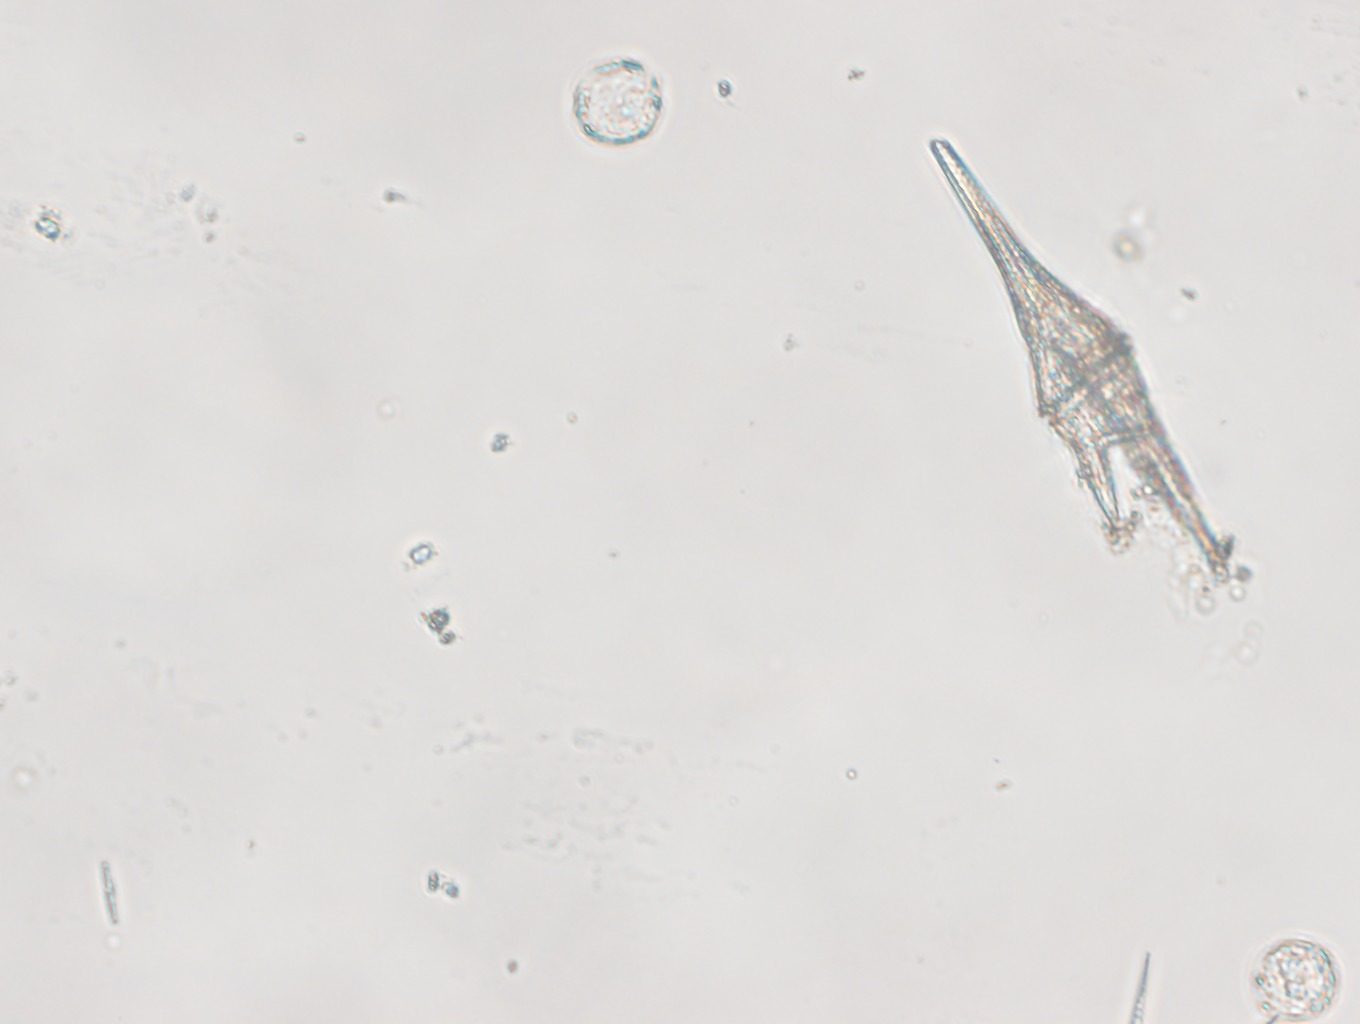ceratium furca: (930, 133, 1227, 582)
